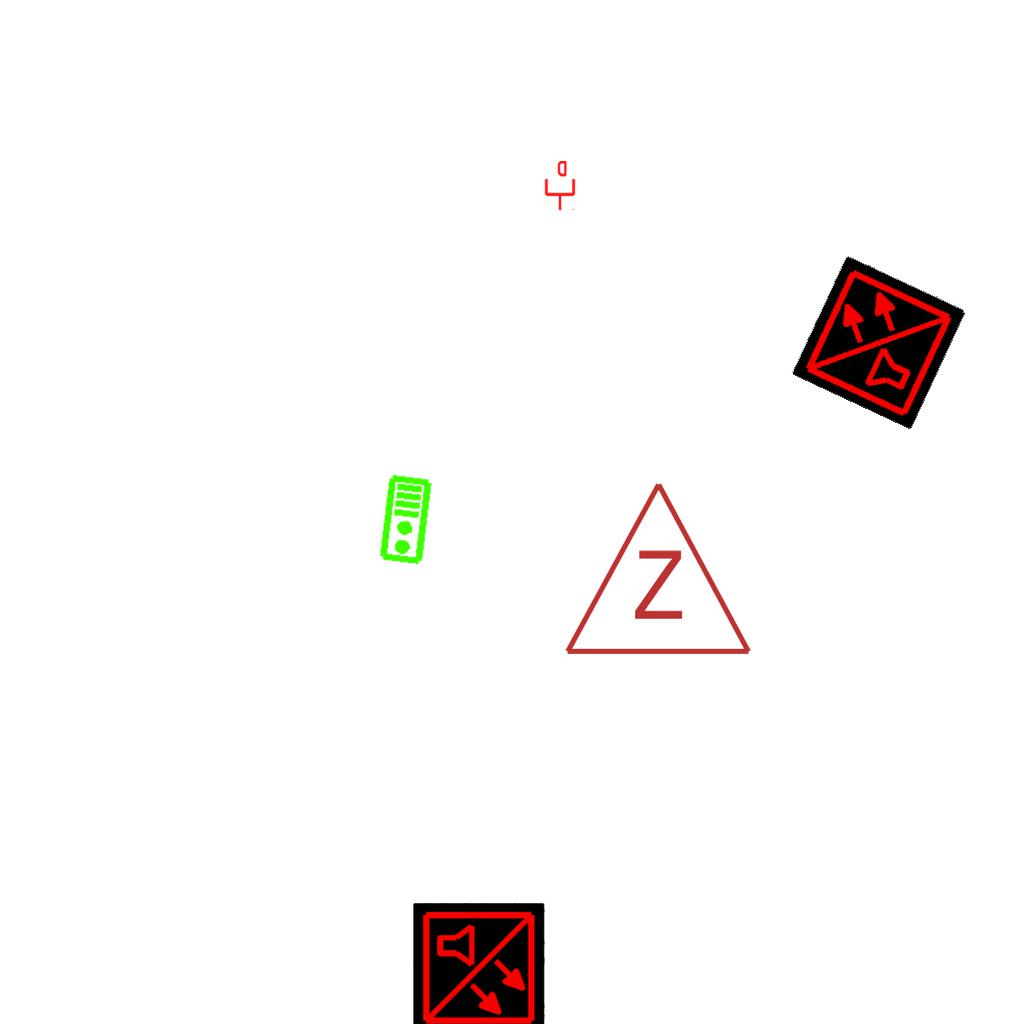Datenanschluss_einfach: (543, 161, 577, 211)
Gegensprechanlage_mit_Video: (377, 473, 436, 567)
OKW_Multisensormelder_(Kombination_optischer_Rauch-Kahlenmonoxid_Waerme-Melder): (791, 254, 967, 430), (413, 903, 545, 1024)
Zimmersignalleuchte: (558, 469, 754, 669)
